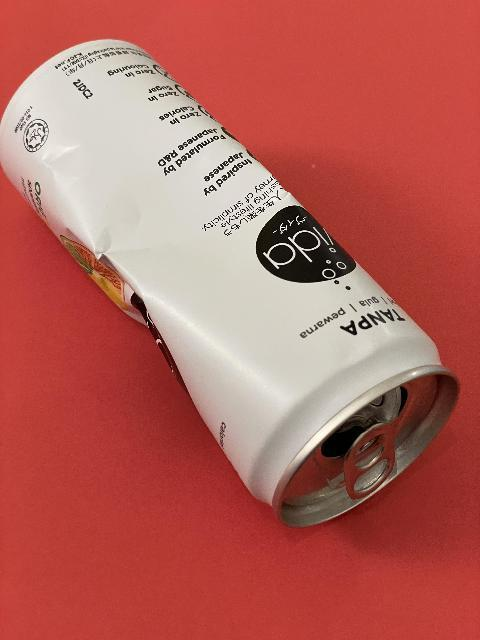drinkcan: (0, 38, 462, 530)
